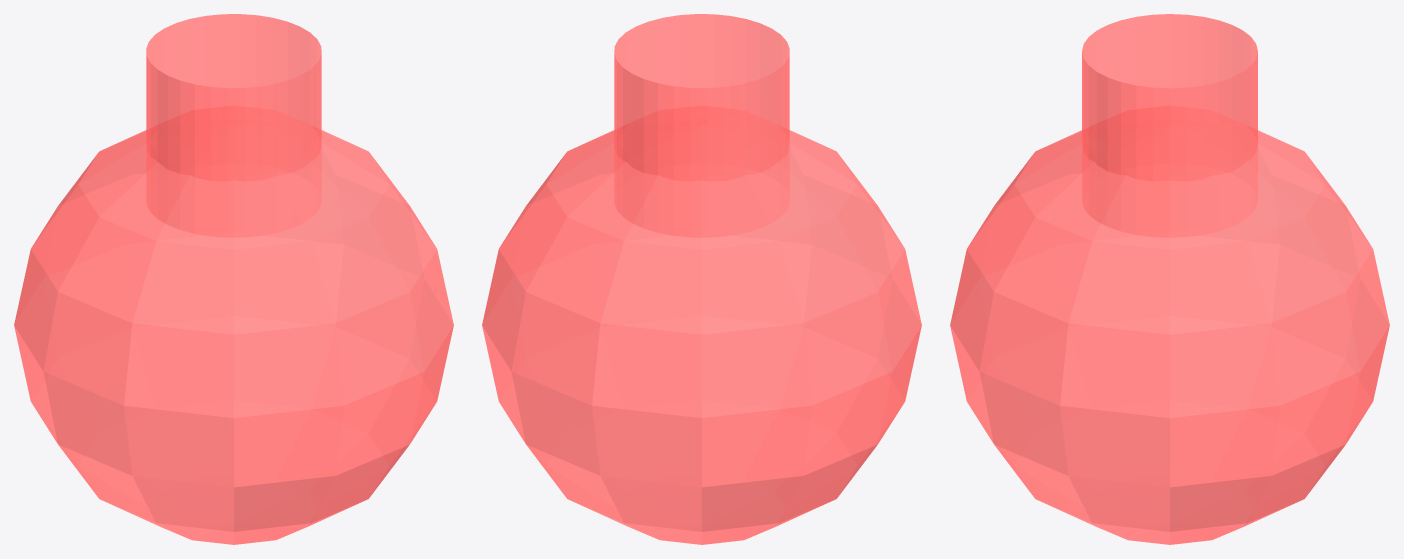
The model's file is health_potion.glb.
The picture shows the model from 3 angles, left to right: view 1: azimuth 30°, elevation 25°; view 2: azimuth 150°, elevation 25°; view 3: azimuth 270°, elevation 25°; orthographic projection.
Visible parts, largest first — view 1: HealthPotion; view 2: HealthPotion; view 3: HealthPotion.
Boxes of the visible parts, x1,y1,x2,y2 form: HealthPotion: (14, 14, 453, 544); HealthPotion: (482, 14, 921, 544); HealthPotion: (950, 14, 1389, 544).
Size of the model in its own units: 0.4 by 0.475 by 0.4.
